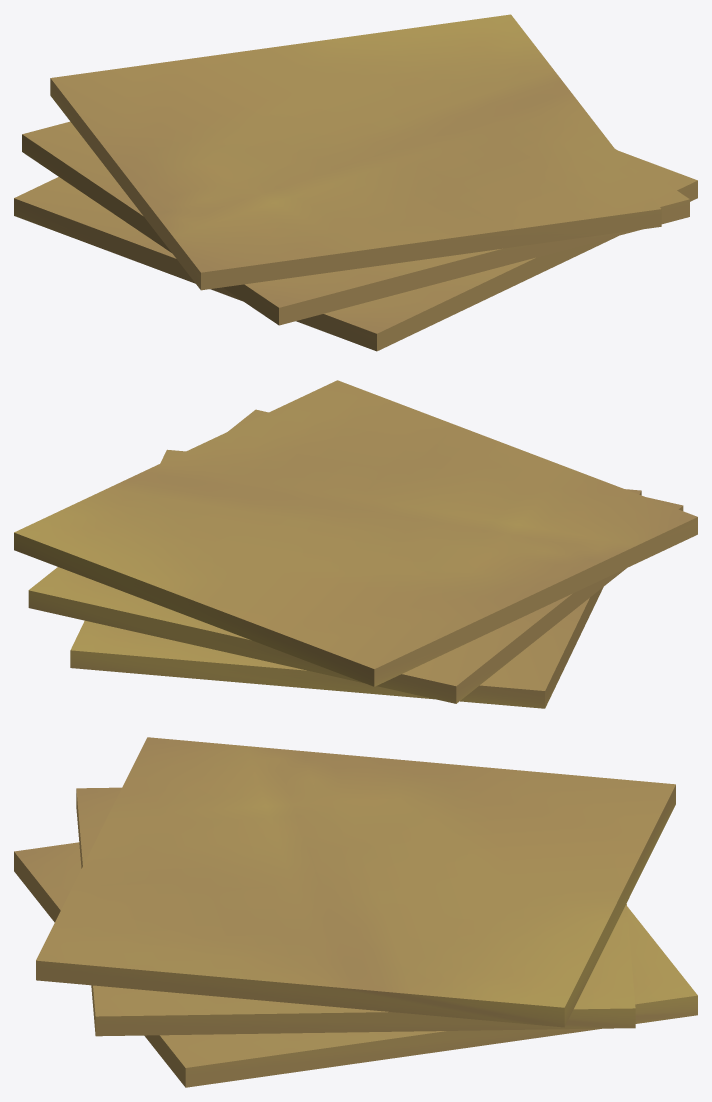
Rendered from Lumpia Wrappers.fbx.
The picture shows the model from 3 angles, top to bottom: view 1: azimuth 30°, elevation 25°; view 2: azimuth 150°, elevation 25°; view 3: azimuth 270°, elevation 25°; orthographic projection. The views are drawn at different scales.
Parts seen in each view (by area): view 1: Lumpia Wrappers; view 2: Lumpia Wrappers; view 3: Lumpia Wrappers.
Boxes of the visible parts, x1,y1,x2,y2 form: Lumpia Wrappers: (14,14,697,351); Lumpia Wrappers: (14,380,697,708); Lumpia Wrappers: (14,737,697,1087).
Size of the model in its own units: 31.09 by 31.09 by 3.55.
